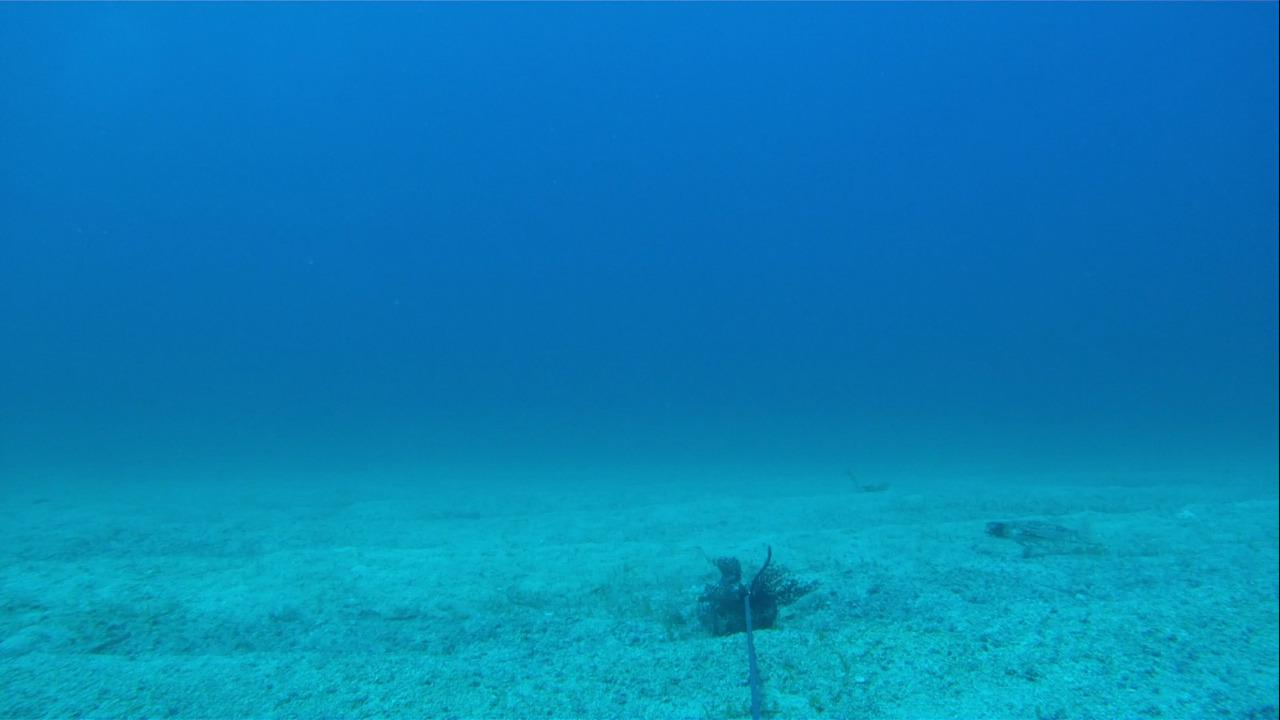dactylopterus: (981, 511, 1092, 560)
